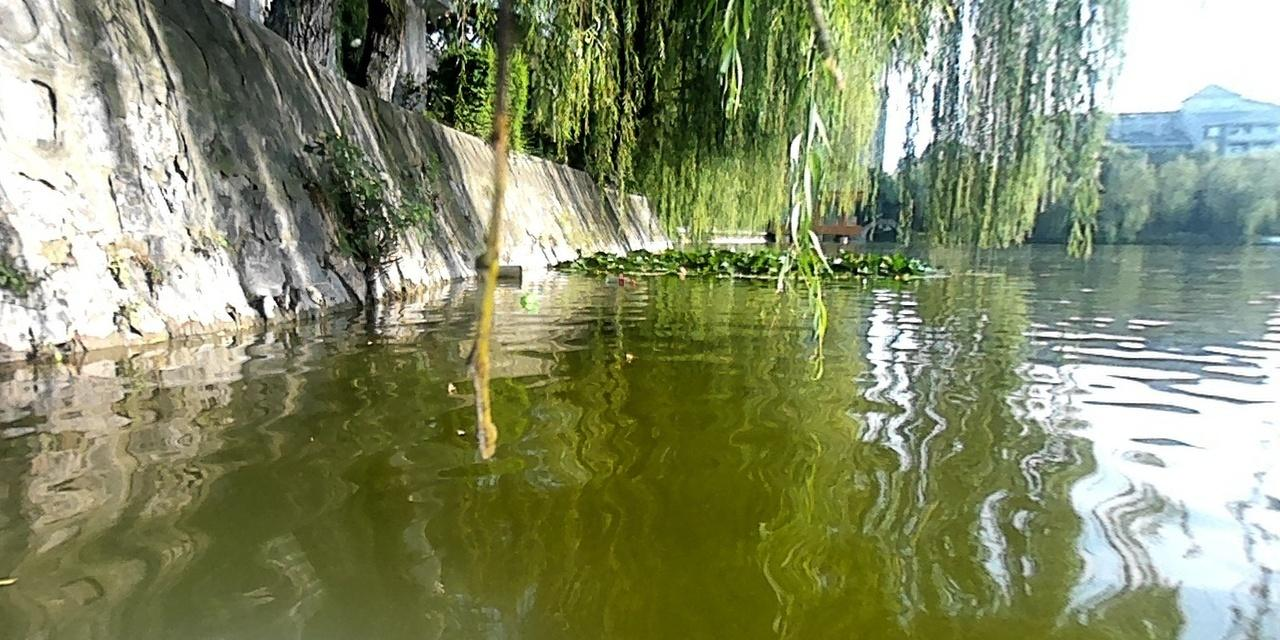bottle: (603, 274, 635, 287)
